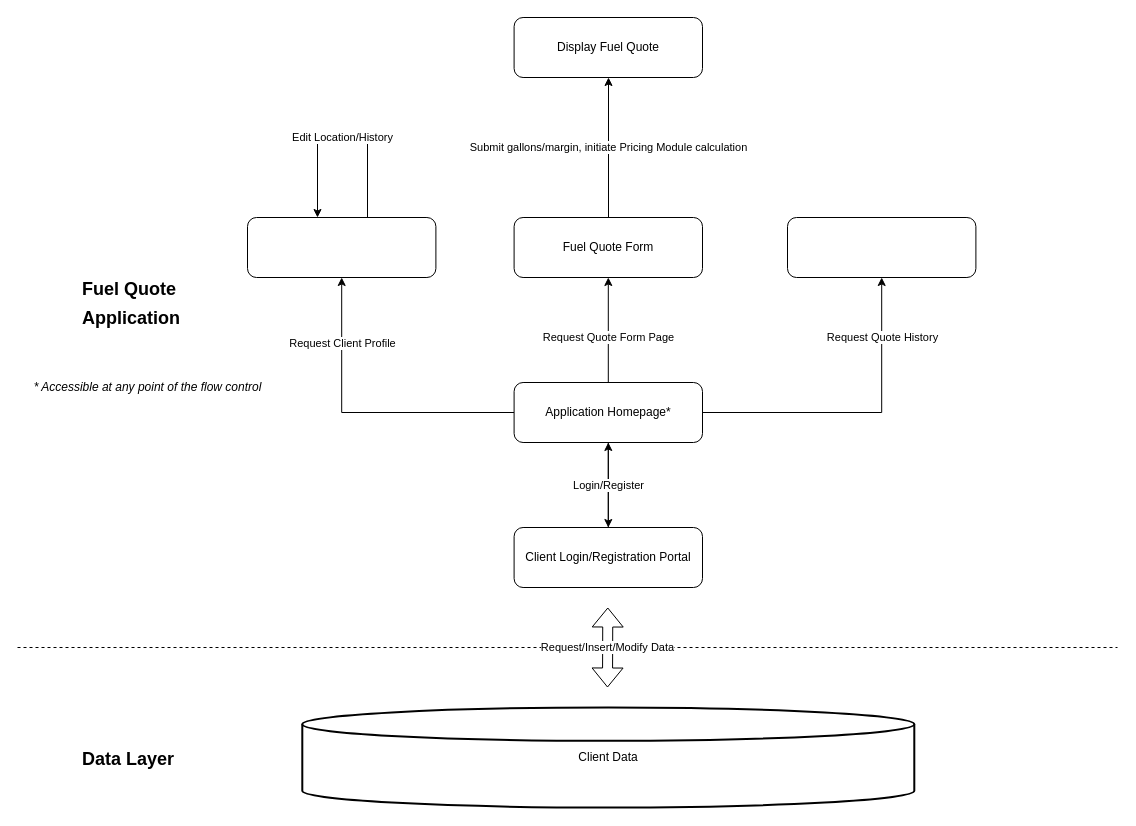
Image size: 1136x826. Some labels were removed from this diagram. Here are the shapes that lost their labels. From the top down, the centre of each, then its label:
point (341, 247): Display Client Profile
point (881, 247): Display Fuel Quote History
